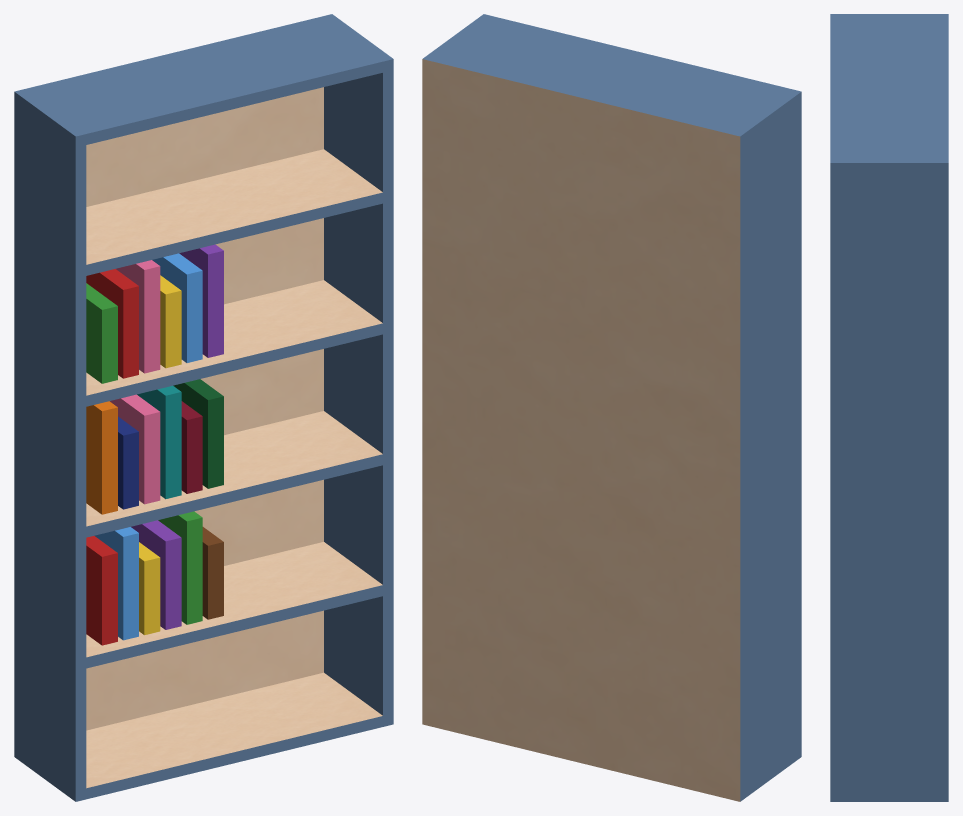
File: Bookshelf.fbx
3 views of the same model, side by side, from view 1: azimuth 30°, elevation 25°; view 2: azimuth 150°, elevation 25°; view 3: azimuth 270°, elevation 25° (orthographic). The views are drawn at different scales.
Parts seen in each view (by area): view 1: Bookshelf; view 2: Bookshelf; view 3: Bookshelf.
Part boxes in pixels (left/top/right/bottom): Bookshelf: left=14, top=14, right=393, bottom=801; Bookshelf: left=422, top=14, right=801, bottom=801; Bookshelf: left=830, top=14, right=948, bottom=801.
Size of the model in its own units: 0.9 by 1.8 by 0.3015.
1 material, 1 textured.
